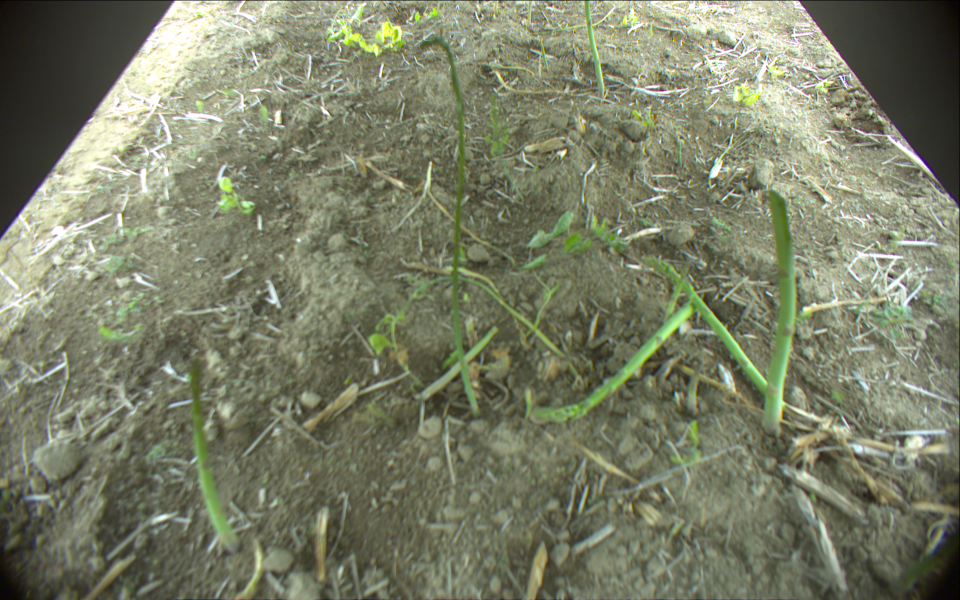aspa: (422, 35, 481, 416), (421, 37, 479, 419), (526, 301, 696, 427), (642, 250, 770, 392), (401, 278, 567, 359), (190, 358, 238, 551), (765, 190, 797, 436), (417, 326, 497, 402), (662, 256, 696, 328), (543, 1, 621, 30), (583, 1, 605, 95), (539, 37, 549, 74)
